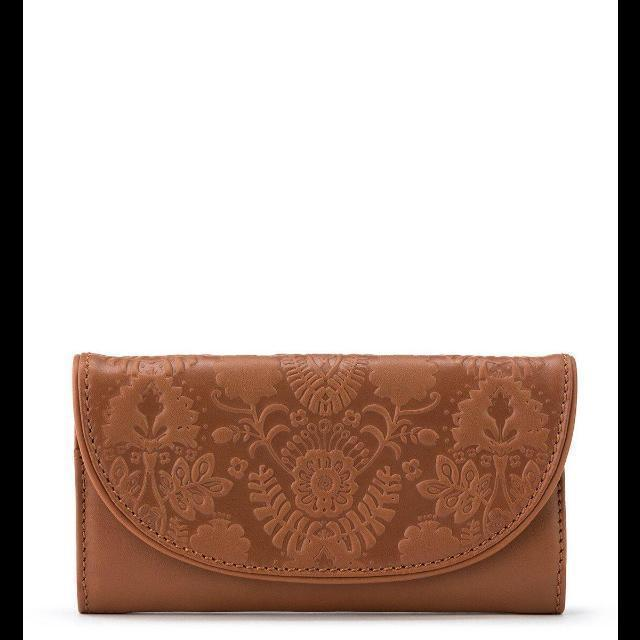wallet: (75, 351, 562, 613)
